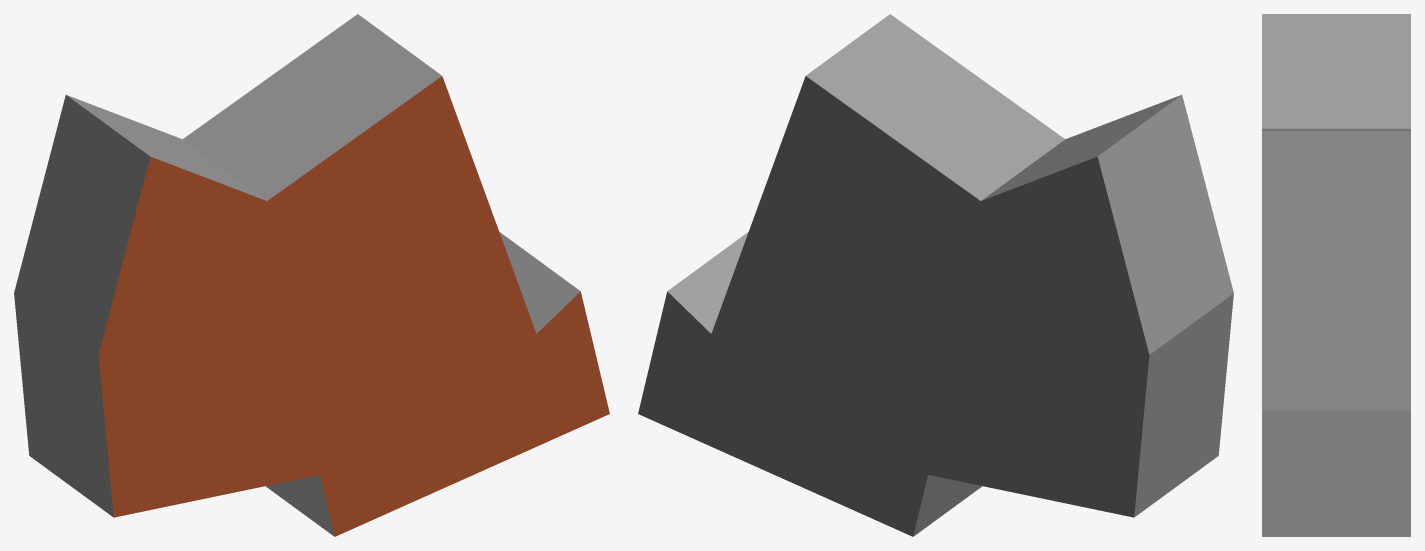
Rendered from construction_2255_assumed_A_Casa_h6m.obj.
3 views of the same model, side by side, from view 1: azimuth 30°, elevation 25°; view 2: azimuth 150°, elevation 25°; view 3: azimuth 270°, elevation 25° (orthographic). The views are drawn at different scales.
Visible parts, largest first — view 1: construction_2255_assumed_A_Casa; view 2: construction_2255_assumed_A_Casa; view 3: construction_2255_assumed_A_Casa.
Boxes of the visible parts, x1,y1,x2,y2 form: construction_2255_assumed_A_Casa: (14,14,609,536); construction_2255_assumed_A_Casa: (638,14,1233,536); construction_2255_assumed_A_Casa: (1262,14,1410,536).
Size of the model in its own units: 20.96 by 17.03 by 6.
